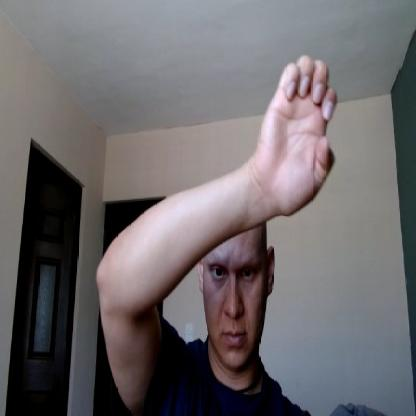E: (259, 52, 337, 220)
